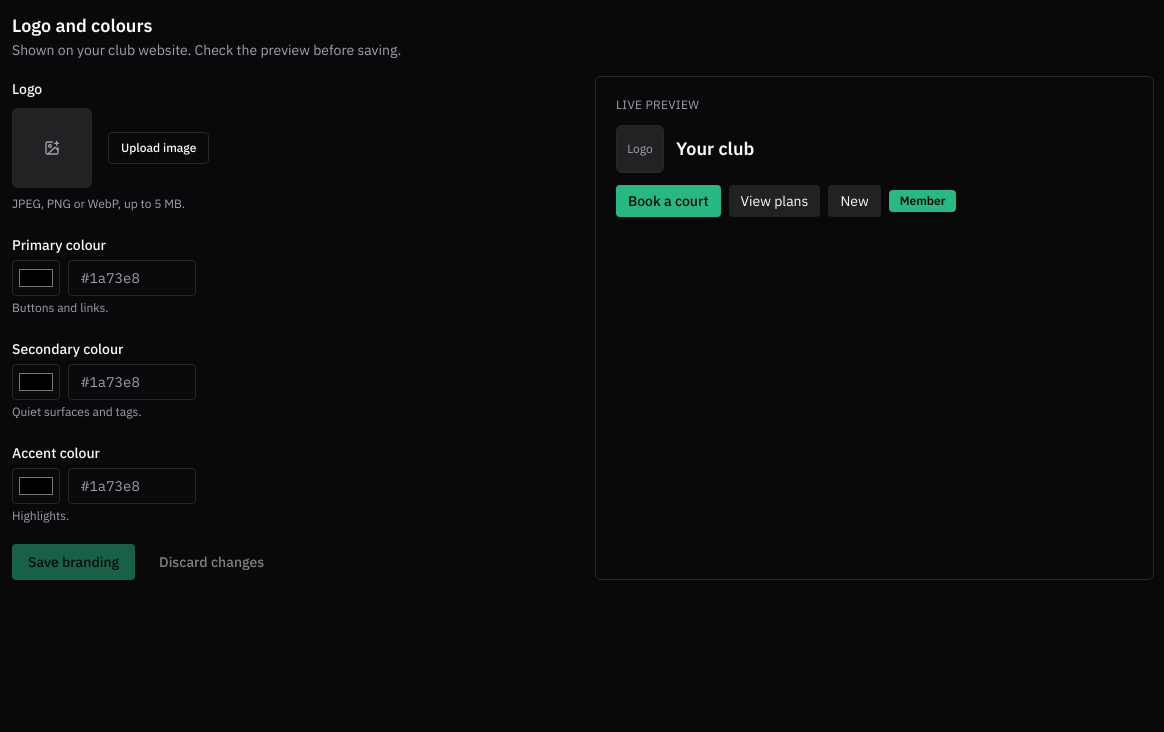
branding editor › shows the server error and keeps the draft when saving fails
Step 1. Type "#112233" into the field labelled "Primary colour" → (132, 278), box [68,260,196,296]
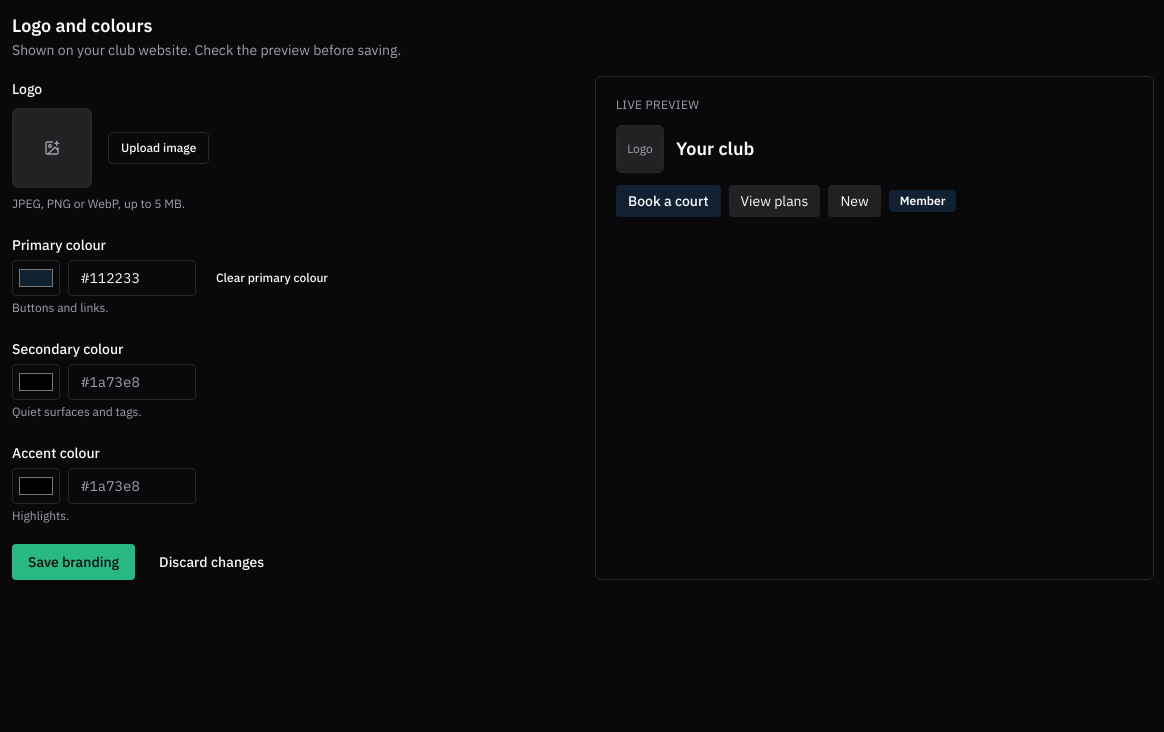
Step 2. Click the button "Save branding" → (74, 562), box [12,544,135,580]
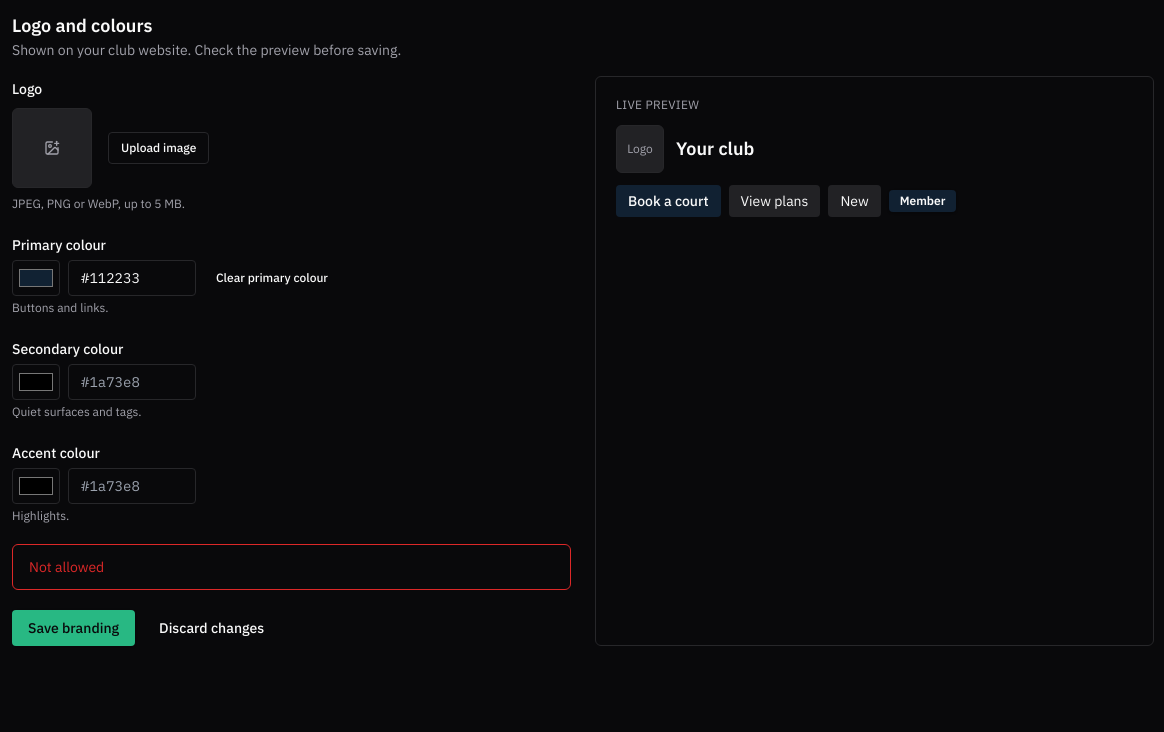
Result: the text "Not allowed" is shown at [29,558,104,576]
